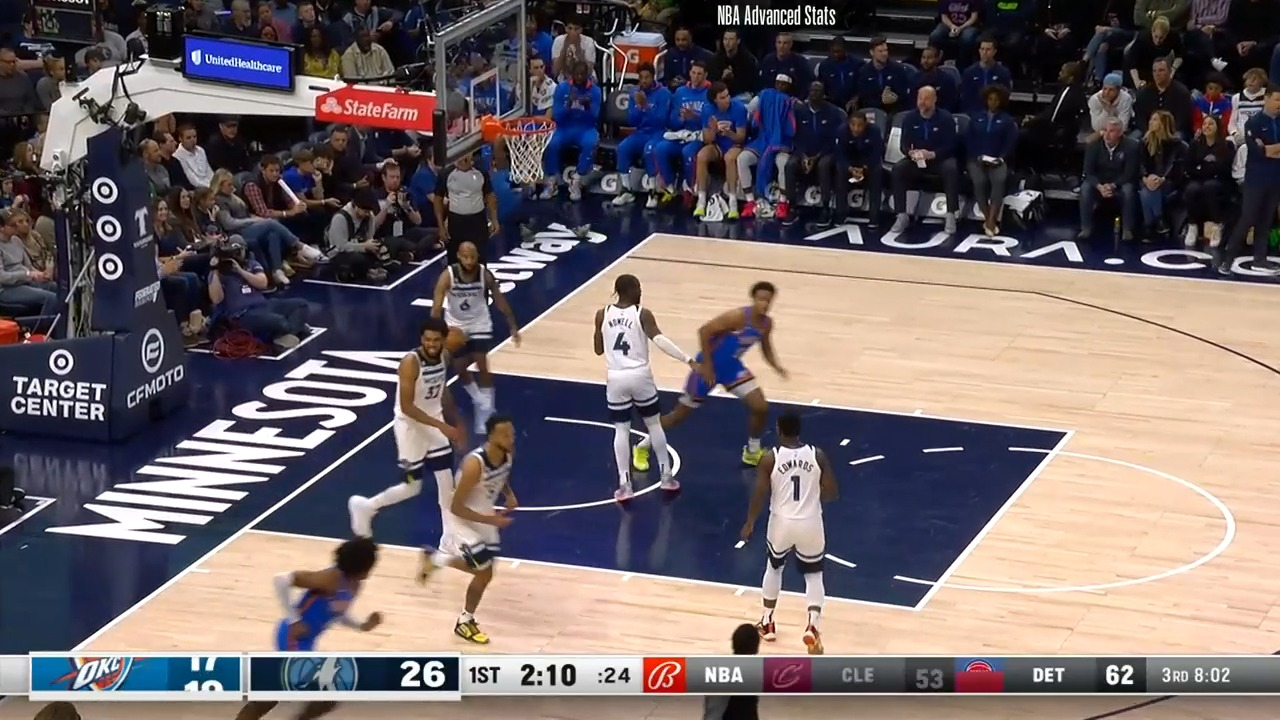net: (482, 106, 559, 180)
player: (356, 314, 473, 549), (653, 282, 792, 467), (586, 270, 691, 506), (416, 415, 517, 646), (738, 409, 828, 650), (428, 235, 518, 444), (262, 538, 388, 656)
referee: (436, 146, 498, 276)
